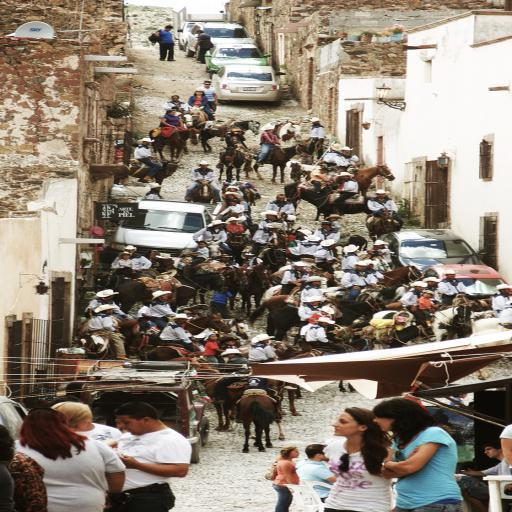horse: (75, 160, 498, 453), (250, 136, 314, 182), (194, 118, 264, 152), (146, 127, 204, 163), (213, 146, 250, 182), (266, 120, 304, 146), (180, 113, 196, 155), (188, 104, 212, 120)
